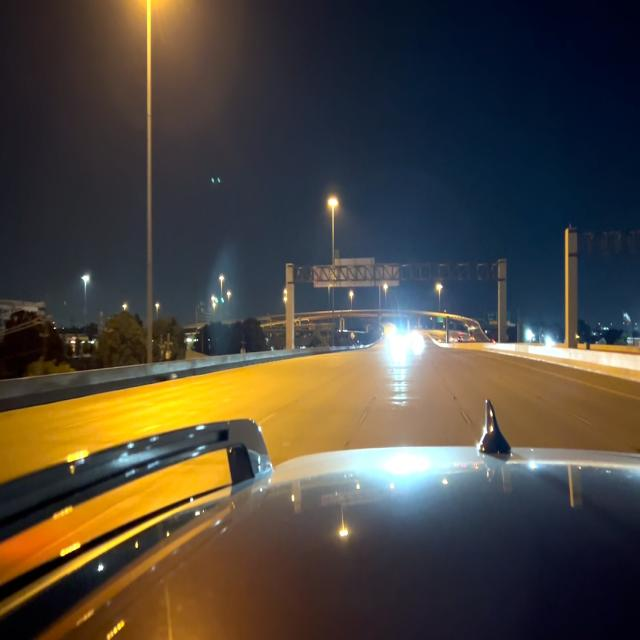back-of-sign: (314, 260, 399, 284)
